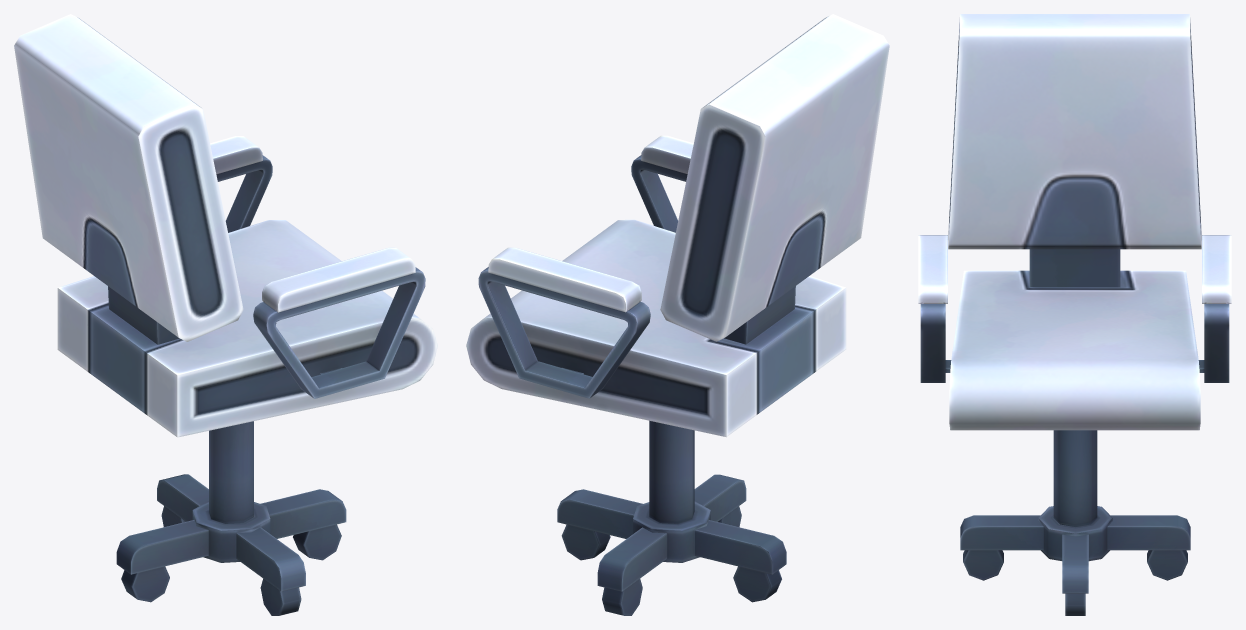
The model's file is obj_seat03.gltf.
The picture shows the model from 3 angles, left to right: view 1: azimuth 30°, elevation 25°; view 2: azimuth 150°, elevation 25°; view 3: azimuth 270°, elevation 25°; orthographic projection. The views are drawn at different scales.
Parts seen in each view (by area): view 1: obj_seat03; view 2: obj_seat03; view 3: obj_seat03.
Part boxes in pixels (left/top/right/bottom): obj_seat03: left=14, top=14, right=437, bottom=615; obj_seat03: left=466, top=14, right=889, bottom=615; obj_seat03: left=918, top=14, right=1231, bottom=615.
Size of what is drawn, in the model's own units: 0.676 by 1.19 by 0.6727.
1 material, 1 textured.
